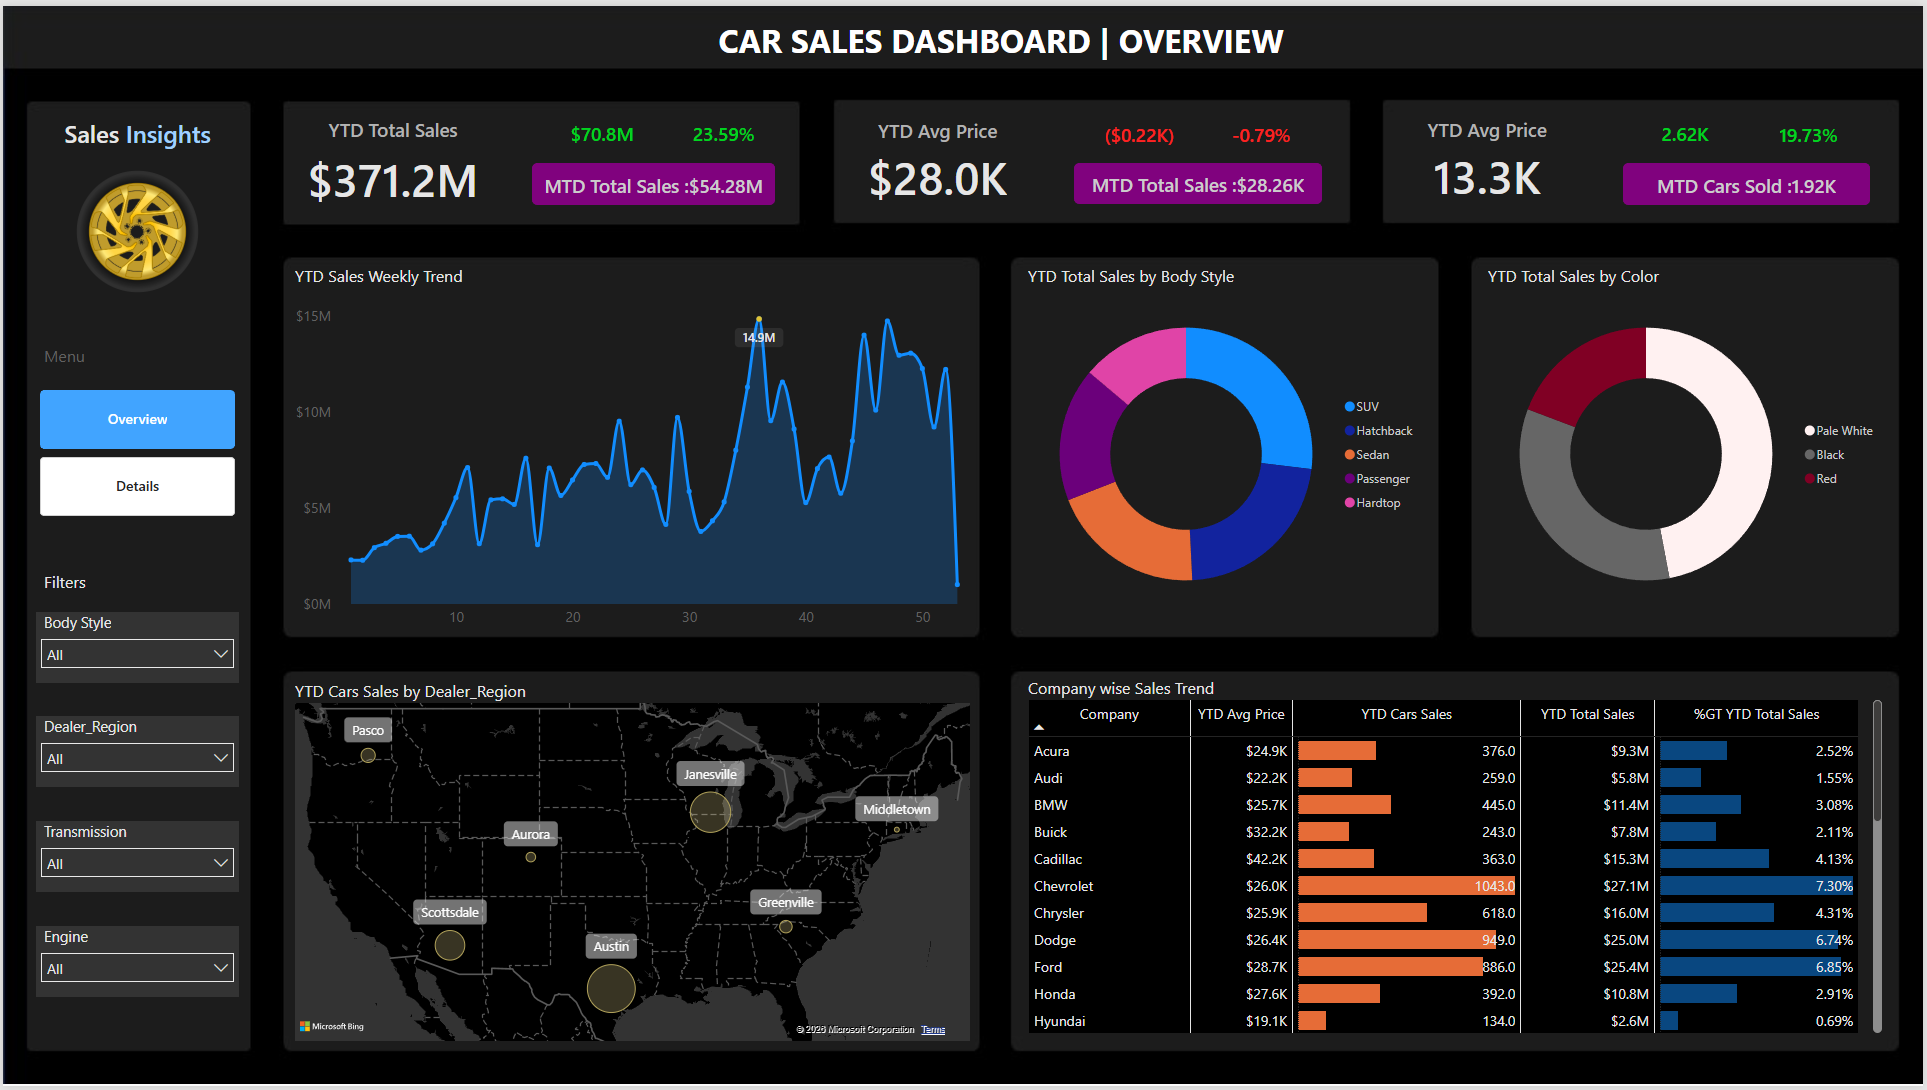

The dashboard page shown, as its layout file describes it:
{"tool":"powerbi","page":{"name":"Overview","canvas":[1920,1080],"ordinal":0},"visuals":[{"type":"cardVisual","title":"YTD Total Sales","fields":{"Data":["car_data.YTD Total Sales"]},"box":[286.3,97.7,209.5,121.7],"z":0},{"type":"cardVisual","fields":{"Data":["car_data.Sales Difference"]},"box":[547.7,114.8,102.1,23.6],"z":1000},{"type":"cardVisual","fields":{"Data":["car_data.YoY Sales Growth"]},"box":[669.4,114.8,102.1,23.6],"z":2000},{"type":"cardVisual","fields":{"Data":["car_data.MTD KPI"]},"box":[529,157.1,243.4,42],"z":3000},{"type":"cardVisual","title":"YTD Avg Price","fields":{"Data":["car_data.YTD Avg Price"]},"box":[830.8,98.7,209.5,115.7],"z":4000},{"type":"cardVisual","fields":{"Data":["car_data.Avg Price Diff"]},"box":[1085.2,114.7,101.7,23.9],"z":5000},{"type":"cardVisual","fields":{"Data":["car_data.YoY Avg Price Growth"]},"box":[1206.9,114.7,101.7,23.9],"z":6000},{"type":"cardVisual","fields":{"Data":["car_data.MTD Avg Price KPI"]},"box":[1071.2,156.6,247.4,41.9],"z":7000},{"type":"cardVisual","title":"YTD Avg Price","fields":{"Data":["car_data.YTD Cars Sales"]},"box":[1380.4,97.7,209.5,115.7],"z":8000},{"type":"cardVisual","fields":{"Data":["car_data.Cars Sold Diff"]},"box":[1630.5,113.7,102.1,24.2],"z":9000},{"type":"cardVisual","fields":{"Data":["car_data.YoY Car Sold Growth"]},"box":[1754.7,114.7,101.1,24.2],"z":10000},{"type":"cardVisual","fields":{"Data":["car_data.MTD Cars Sold KPI"]},"box":[1620,156.8,247.4,42.1],"z":11000},{"type":"areaChart","title":"YTD Sales Weekly Trend","fields":{"Category":["Calendar Table.Week"],"Y":["Sum(car_data.Price ($))","car_data.Max Point"]},"box":[275.7,253.5,716.1,388.4],"z":12000},{"type":"donutChart","fields":{"Category":["car_data.Body Style"],"Y":["car_data.YTD Total Sales"]},"box":[1009.2,253.5,426,376.9],"z":13000},{"type":"donutChart","fields":{"Y":["car_data.YTD Total Sales"],"Category":["car_data.Color"]},"box":[1468.9,253.5,426,376.9],"z":14000},{"type":"map","fields":{"Size":["car_data.YTD Cars Sales"],"Category":["car_data.Dealer_Region"]},"box":[275.5,668.1,707.7,383.3],"z":15000},{"type":"tableEx","title":"Company wise Sales Trend","fields":{"Values":["car_data.Company","car_data.YTD Avg Price","car_data.YTD Cars Sales","car_data.YTD Total Sales1","car_data.YTD Total Sales"]},"box":[1009,657,885.6,386.1],"z":16000},{"type":"textbox","box":[678.2,12,639.5,47.9],"z":17000},{"type":"slicer","fields":{"Values":["car_data.Body Style"]},"box":[33.2,606.3,202.7,71],"z":18000},{"type":"slicer","fields":{"Values":["car_data.Dealer_Region"]},"box":[33.2,710.5,202.7,71],"z":19000},{"type":"slicer","fields":{"Values":["car_data.Transmission"]},"box":[33.2,814.6,202.7,71],"z":20000},{"type":"slicer","fields":{"Values":["car_data.Engine"]},"box":[33.2,919.7,202.7,71],"z":21000},{"type":"textbox","box":[40.5,564.9,202.7,30.4],"z":22000},{"type":"textbox","box":[56.2,110.6,156.7,46.1],"z":23000},{"type":"textbox","box":[40.5,339.1,58.1,28.6],"z":24000},{"type":"pageNavigator","box":[36.9,384.3,195.4,127.2],"z":25000},{"type":"image","box":[56.2,127.2,156.7,197.2],"z":25001}]}

Visuals, with their boxes in screenshot pixels (x1, y1, x2, y2), scaled from the page's 1920x1080 canvas onto the 1927x1090 screenshot:
"YTD Total Sales" cardVisual: Rect(287, 99, 498, 221)
cardVisual - car_data.Sales Difference: Rect(550, 116, 652, 140)
cardVisual - car_data.YoY Sales Growth: Rect(672, 116, 774, 140)
cardVisual - car_data.MTD KPI: Rect(531, 159, 775, 201)
"YTD Avg Price" cardVisual: Rect(834, 100, 1044, 216)
cardVisual - car_data.Avg Price Diff: Rect(1089, 116, 1191, 140)
cardVisual - car_data.YoY Avg Price Growth: Rect(1211, 116, 1313, 140)
cardVisual - car_data.MTD Avg Price KPI: Rect(1075, 158, 1323, 200)
"YTD Avg Price" cardVisual: Rect(1385, 99, 1596, 215)
cardVisual - car_data.Cars Sold Diff: Rect(1636, 115, 1739, 139)
cardVisual - car_data.YoY Car Sold Growth: Rect(1761, 116, 1863, 140)
cardVisual - car_data.MTD Cars Sold KPI: Rect(1626, 158, 1874, 201)
"YTD Sales Weekly Trend" areaChart: Rect(277, 256, 995, 648)
donutChart - car_data.Body Style x car_data.YTD Total Sales: Rect(1013, 256, 1440, 636)
donutChart - car_data.YTD Total Sales x car_data.Color: Rect(1474, 256, 1902, 636)
map - car_data.YTD Cars Sales x car_data.Dealer_Region: Rect(277, 674, 987, 1061)
"Company wise Sales Trend" tableEx: Rect(1013, 663, 1902, 1053)
textbox: Rect(681, 12, 1323, 60)
slicer - car_data.Body Style: Rect(33, 612, 237, 684)
slicer - car_data.Dealer_Region: Rect(33, 717, 237, 789)
slicer - car_data.Transmission: Rect(33, 822, 237, 894)
slicer - car_data.Engine: Rect(33, 928, 237, 1000)
textbox: Rect(41, 570, 244, 601)
textbox: Rect(56, 112, 214, 158)
textbox: Rect(41, 342, 99, 371)
pageNavigator: Rect(37, 388, 233, 516)
image: Rect(56, 128, 214, 327)
